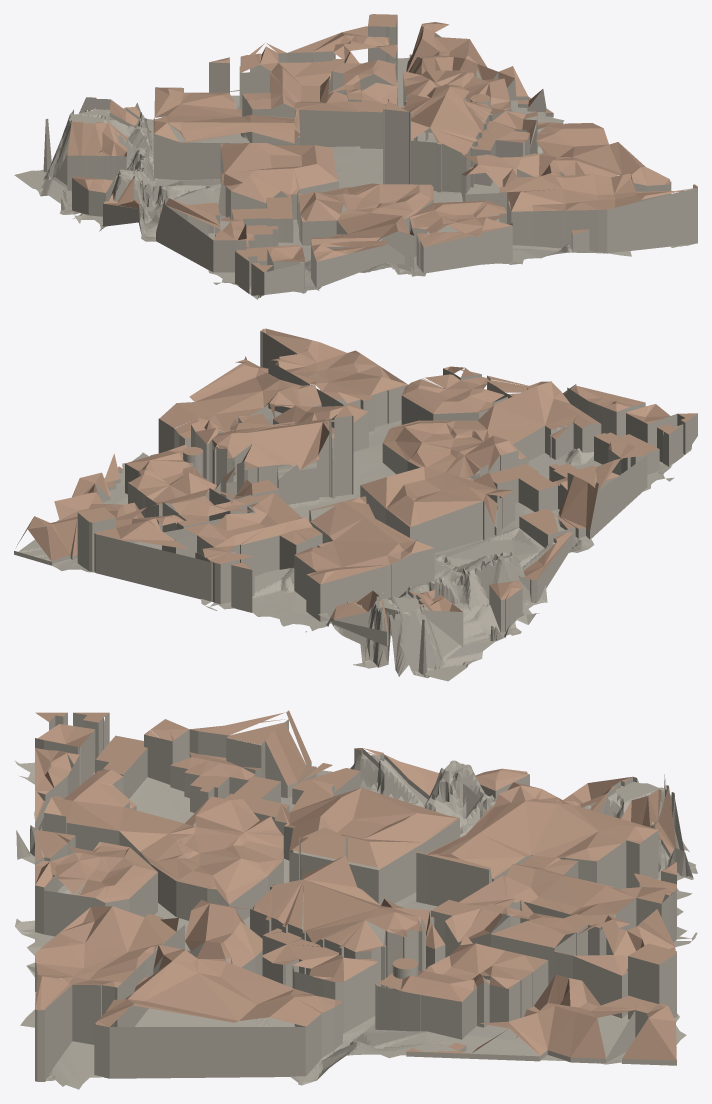
Rendered from santa_maria_v0_2.glb.
3 renders of one model, top to bottom at view 1: azimuth 30°, elevation 25°; view 2: azimuth 150°, elevation 25°; view 3: azimuth 270°, elevation 25°, orthographic. The views are drawn at different scales.
Parts seen in each view (by area): view 1: Terreno_interpolado, Edificio_33_fachadas, Edificio_34_cubierta, Edificio_12_cubierta, Edificio_10_cubierta, Edificio_11_cubierta, Edificio_09_fachadas, Edificio_33_cubierta, Edificio_32_cubierta, Edificio_09_cubierta, Edificio_32_fachadas, Edificio_31_cubierta (+34 smaller); view 2: Terreno_interpolado, Edificio_12_cubierta, Edificio_34_cubierta, Edificio_11_cubierta, Edificio_09_fachadas, Edificio_10_cubierta, Edificio_33_cubierta, Edificio_28_fachadas, Edificio_11_fachadas, Edificio_32_cubierta, Edificio_09_cubierta, Edificio_10_fachadas (+37 smaller); view 3: Terreno_interpolado, Edificio_12_cubierta, Edificio_34_cubierta, Edificio_34_fachadas, Edificio_11_cubierta, Edificio_10_cubierta, Edificio_09_cubierta, Edificio_33_cubierta, Edificio_31_cubierta, Edificio_32_cubierta, Edificio_30_fachadas, Edificio_11_fachadas (+39 smaller).
Part boxes in pixels (x1,y1,x2,y2): Terreno_interpolado: (14, 57, 693, 299); Edificio_33_fachadas: (499, 173, 697, 253); Edificio_34_cubierta: (461, 122, 670, 187); Edificio_12_cubierta: (298, 183, 433, 246); Edificio_10_cubierta: (220, 143, 338, 203); Edificio_11_cubierta: (153, 87, 299, 143); Edificio_09_fachadas: (383, 92, 492, 193); Edificio_33_cubierta: (499, 168, 697, 211); Edificio_32_cubierta: (239, 46, 361, 111); Edificio_09_cubierta: (383, 84, 492, 155); Edificio_32_fachadas: (239, 54, 360, 146); Edificio_31_cubierta: (406, 22, 527, 96); Terreno_interpolado: (18, 390, 691, 681); Edificio_12_cubierta: (383, 381, 600, 477); Edificio_34_cubierta: (159, 356, 368, 438); Edificio_11_cubierta: (295, 496, 433, 584); Edificio_09_fachadas: (209, 405, 353, 504); Edificio_10_cubierta: (360, 466, 514, 527); Edificio_33_cubierta: (261, 328, 407, 403); Edificio_28_fachadas: (94, 528, 212, 601); Edificio_11_fachadas: (294, 510, 434, 621); Edificio_32_cubierta: (184, 493, 322, 564); Edificio_09_cubierta: (209, 404, 352, 482); Edificio_10_fachadas: (360, 485, 515, 552); Terreno_interpolado: (14, 752, 697, 1089); Edificio_12_cubierta: (44, 769, 283, 904); Edificio_34_cubierta: (95, 899, 342, 1026); Edificio_34_fachadas: (94, 941, 342, 1078); Edificio_11_cubierta: (416, 782, 657, 878); Edificio_10_cubierta: (275, 780, 459, 869); Edificio_09_cubierta: (251, 827, 444, 951); Edificio_33_cubierta: (35, 906, 178, 1010); Edificio_31_cubierta: (472, 974, 676, 1060); Edificio_32_cubierta: (459, 856, 676, 921); Edificio_30_fachadas: (375, 960, 548, 1039); Edificio_11_fachadas: (416, 830, 658, 907).
Bounding box in the file's own units: 159 × 36.67 × 160.
